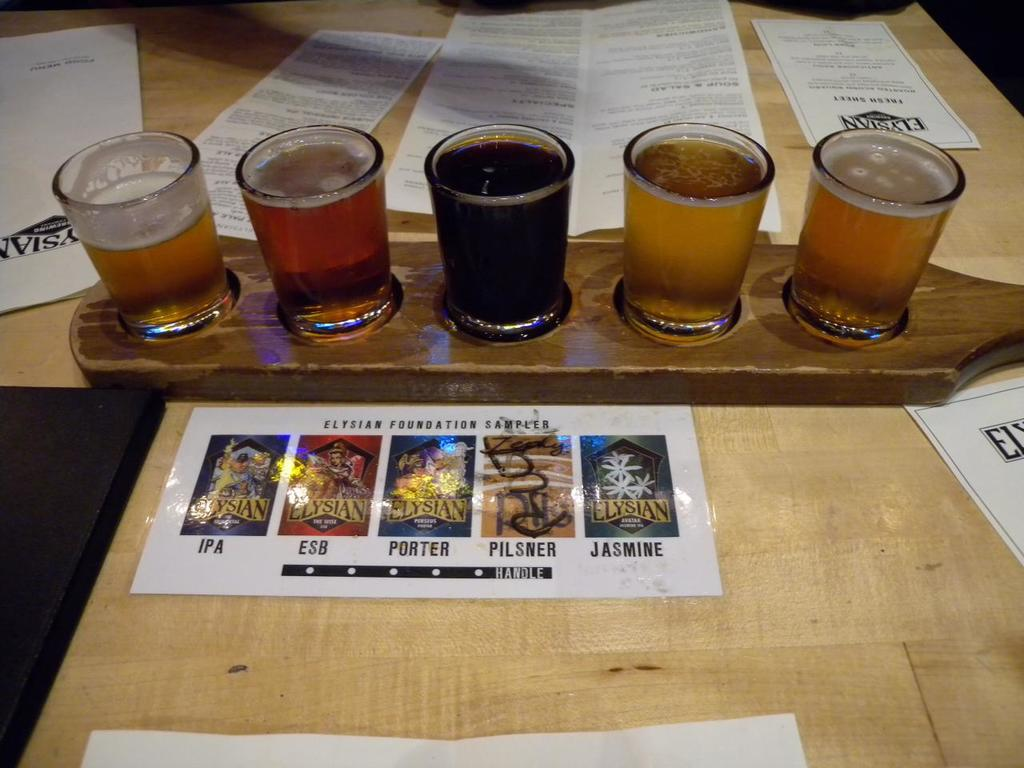Beer: (791, 138, 960, 338), (237, 133, 388, 333), (65, 165, 235, 341), (624, 133, 765, 336)
